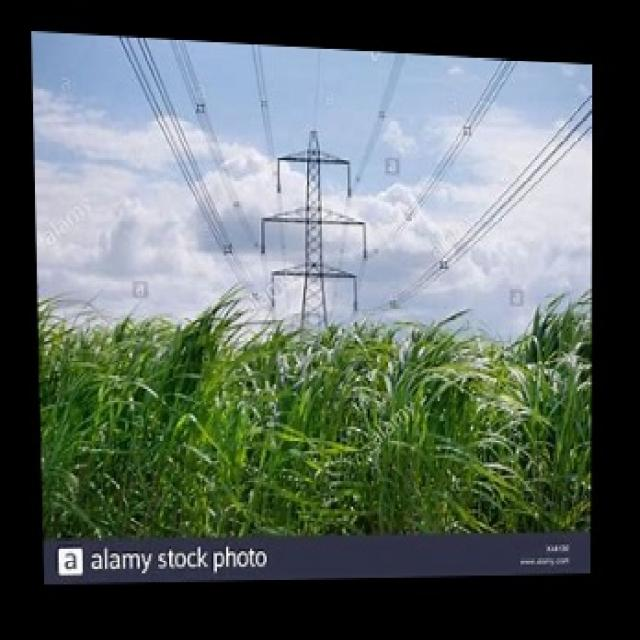utility poles: (251, 108, 368, 535)
